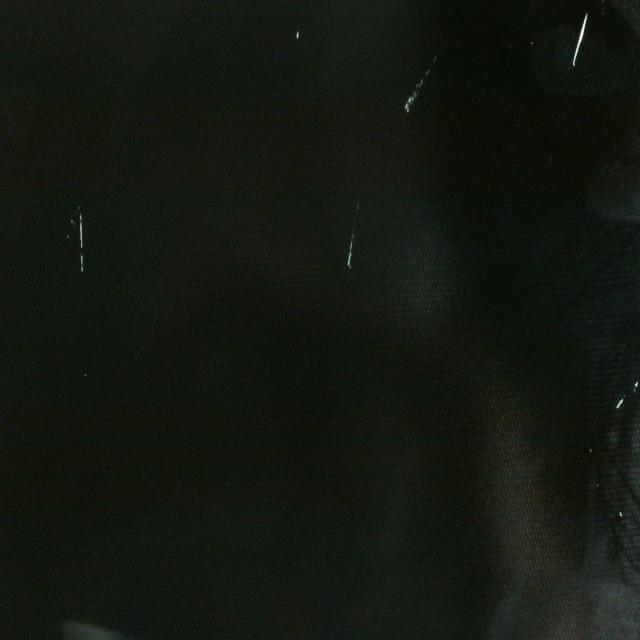scratch: (62, 185, 102, 275), (399, 54, 441, 128), (340, 192, 369, 280), (566, 7, 596, 76), (617, 343, 640, 428)
